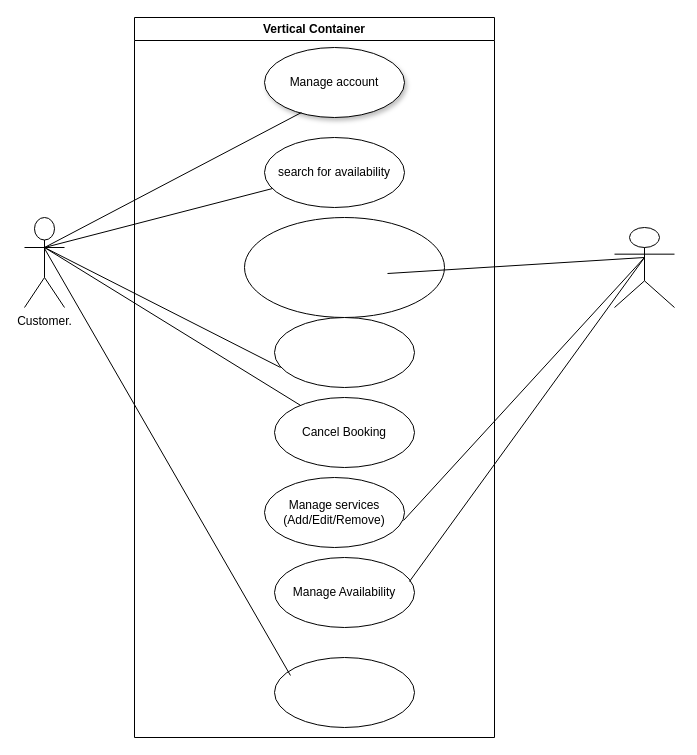
This 697x755 diagram has some shape labels left out. The shapes that lost their labels are listed below. From the top down, each one's centre as x and y in pixels, then its label:
point (344, 267): Manage Booking (View/Confirm/cancel)
point (644, 267): Administrator
point (344, 352): Make Bookings
point (344, 692): View Booking history
